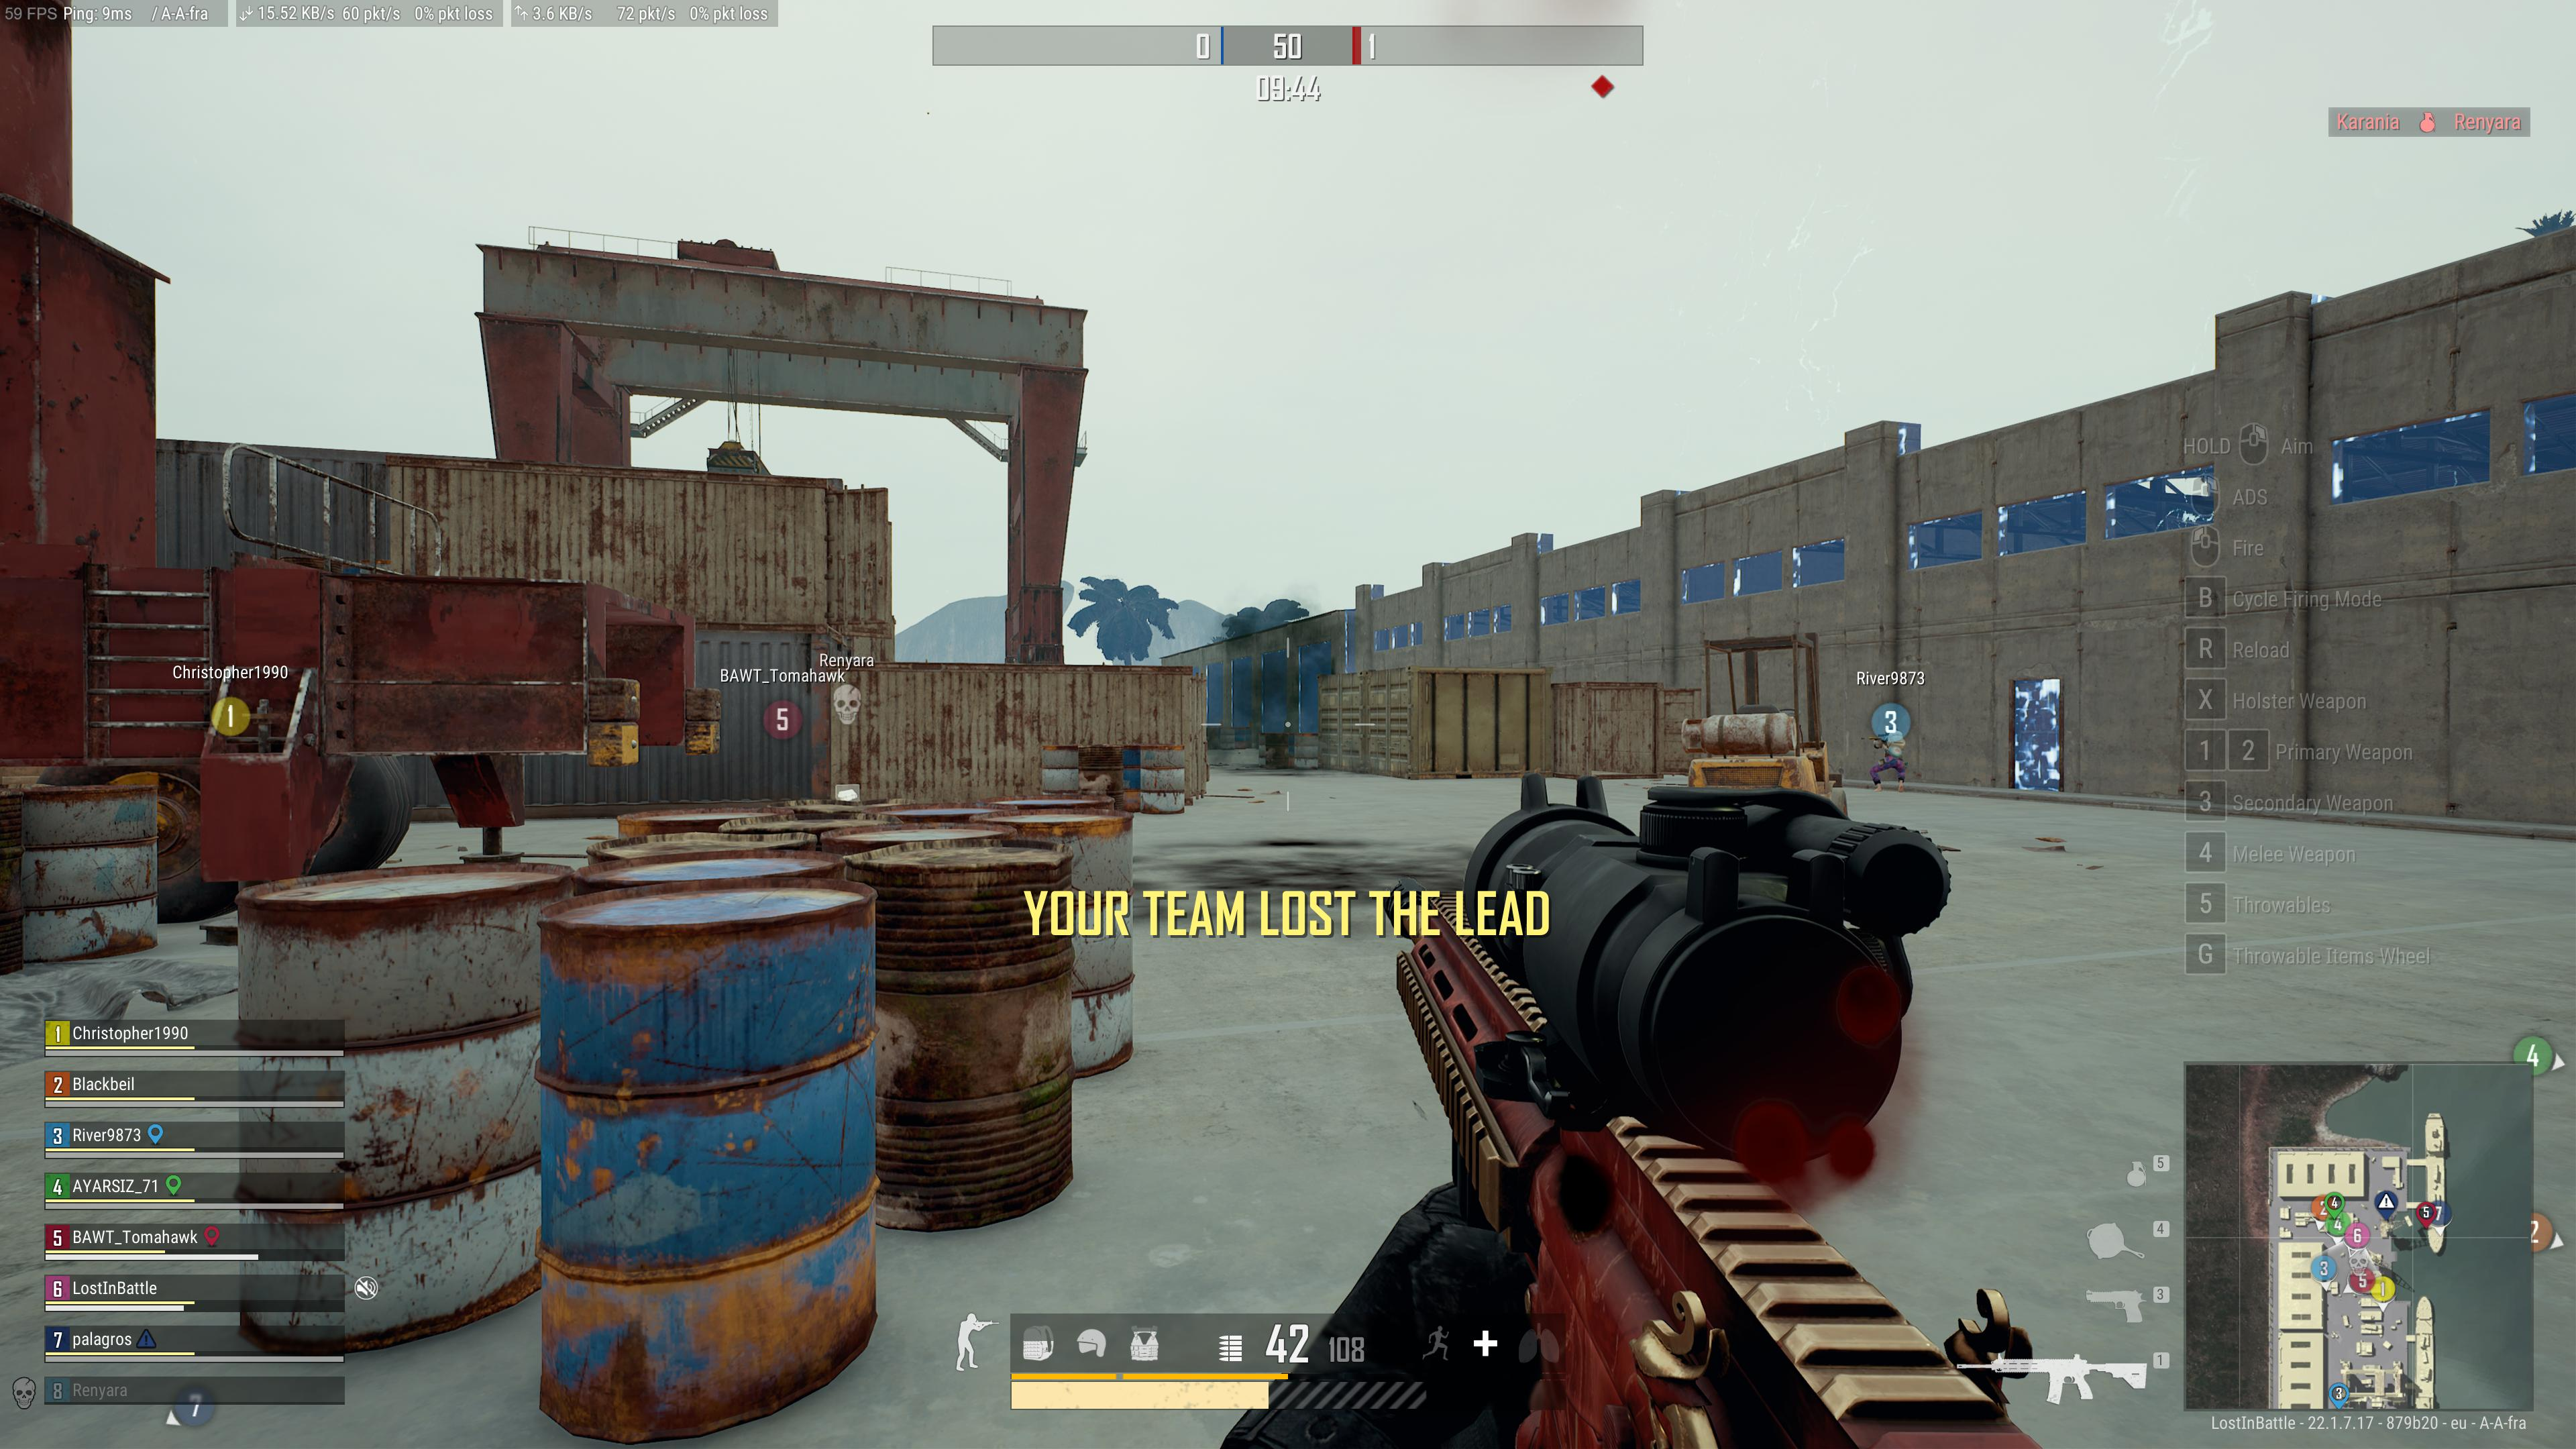friendly: (1868, 717, 1909, 791)
